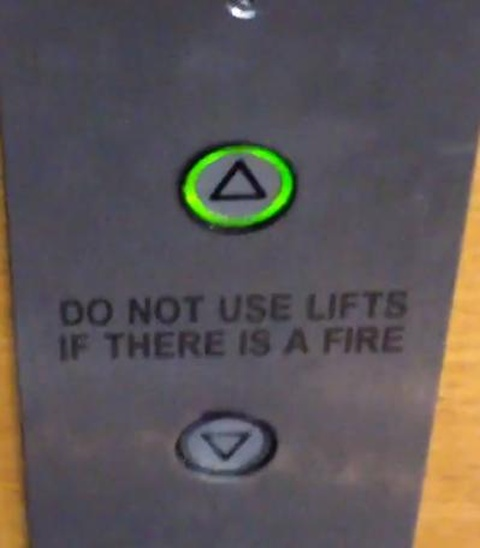down: (172, 407, 278, 479)
up: (177, 140, 298, 234)
